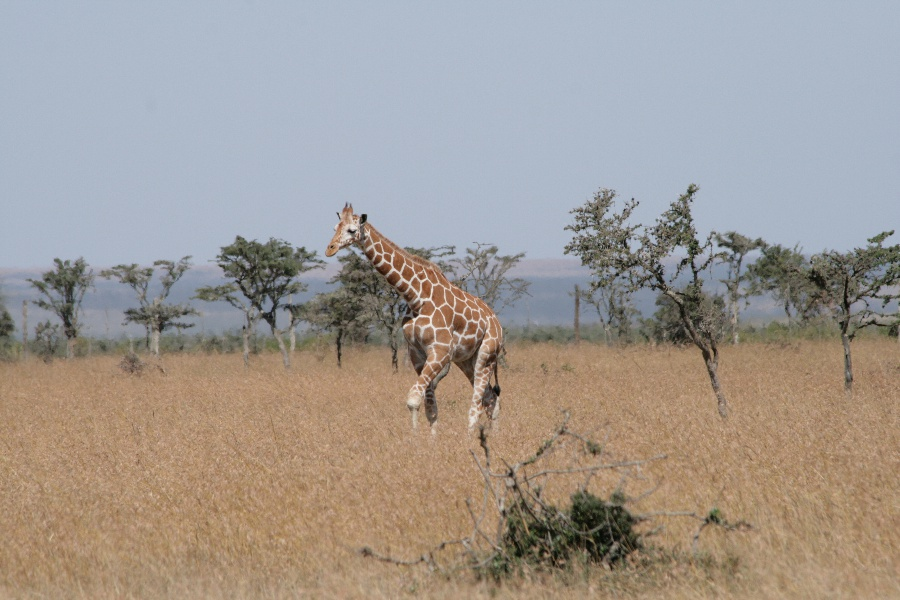giraffe: (314, 194, 519, 441)
